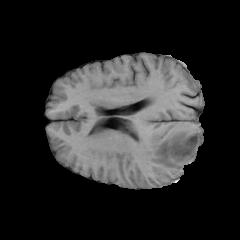glioma: (144, 127, 199, 170)
